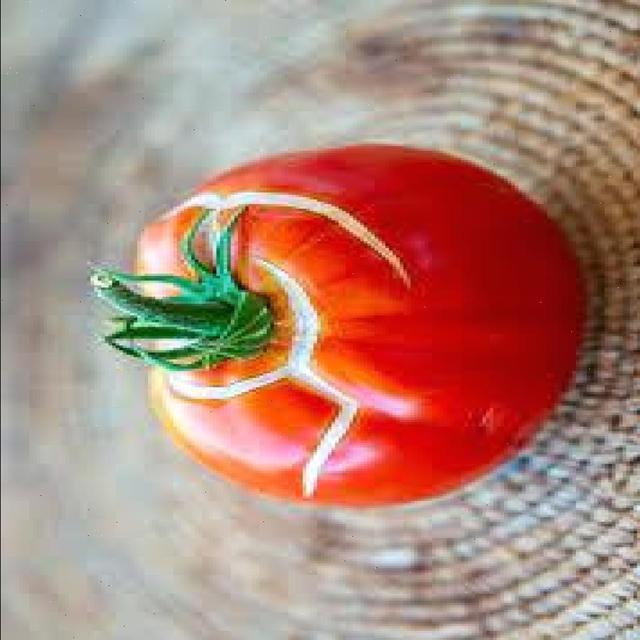Cracking Fruit: (148, 65, 185, 244)
